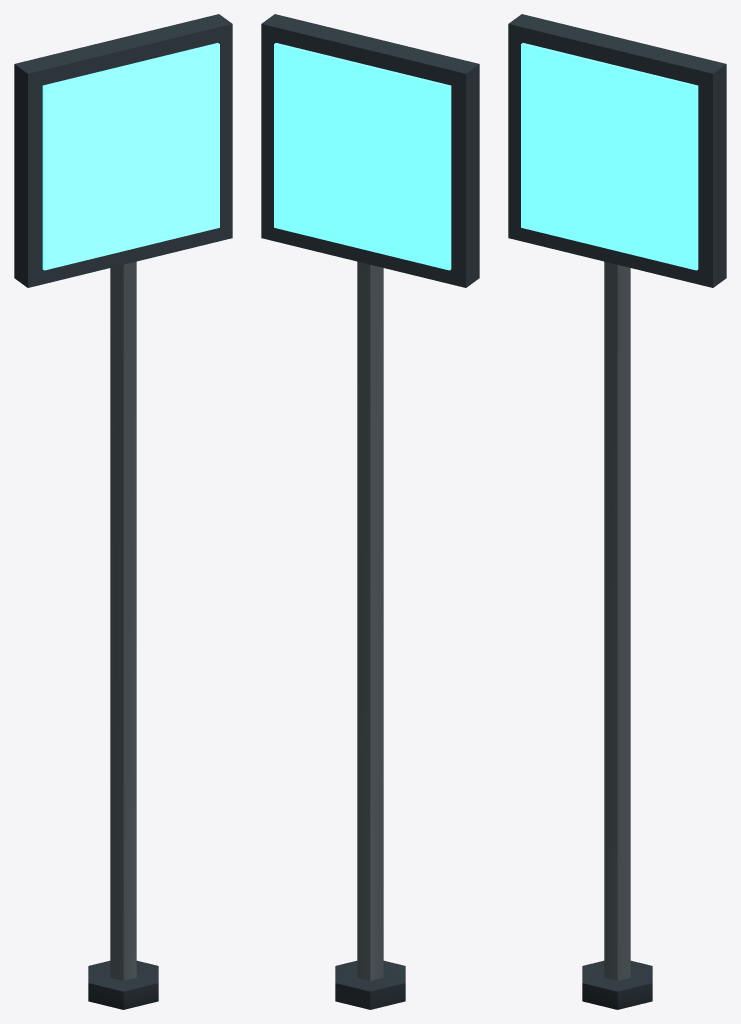
File: zebra-sign.lod2.glb
The picture shows the model from 3 angles, left to right: view 1: azimuth 30°, elevation 25°; view 2: azimuth 150°, elevation 25°; view 3: azimuth 330°, elevation 25°; orthographic projection.
Parts seen in each view (by area): view 1: structure; view 2: structure; view 3: structure.
Boxes of the visible parts, bbox=[...] form: structure: bbox=[14, 14, 232, 1009]; structure: bbox=[261, 14, 479, 1009]; structure: bbox=[508, 14, 726, 1009].
Size of the model in its own units: 0.6999 by 3.1 by 0.2078.
